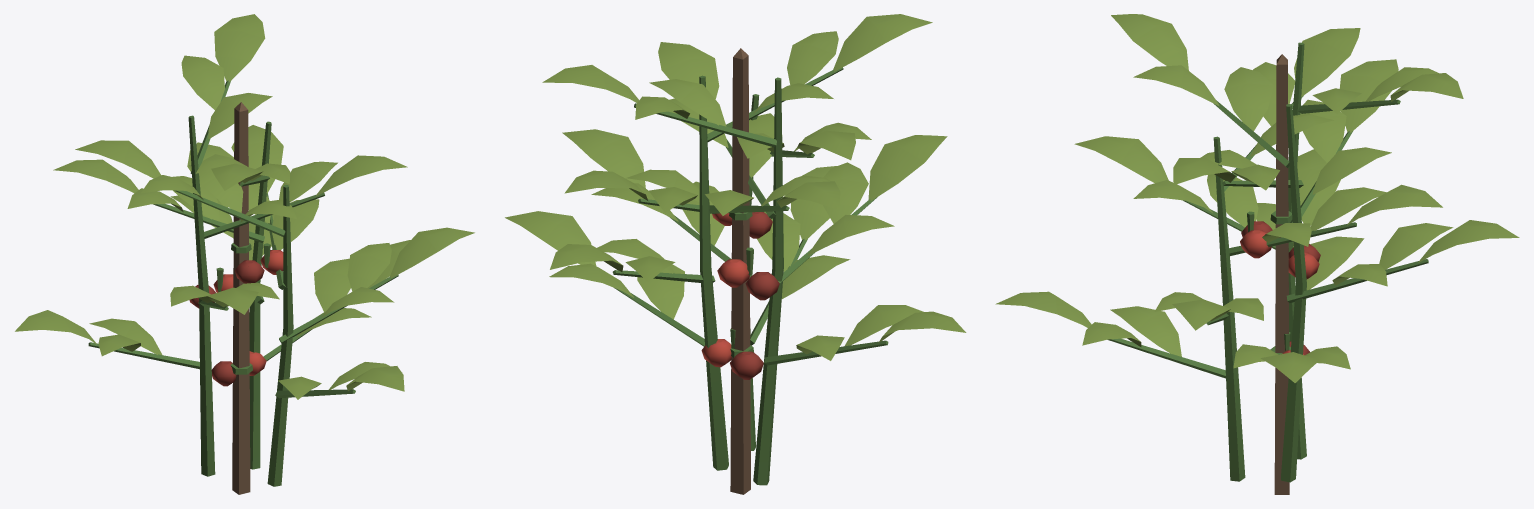
File: crop_tomato_mature.glb
3 renders of one model, left to right at view 1: azimuth 30°, elevation 25°; view 2: azimuth 150°, elevation 25°; view 3: azimuth 270°, elevation 25°, orthographic. The views are drawn at different scales.
Parts seen in each view (by area): view 1: tomato_leaf_00_00_leaflet_00, tomato_cluster_00_fruit_00_calyx_0, tomato_stake, tomato_cluster_00_fruit_01_body, tomato_cluster_00_fruit_00_body; view 2: tomato_leaf_00_00_leaflet_00, tomato_cluster_00_fruit_00_calyx_0, tomato_stake, tomato_cluster_00_fruit_01_body, tomato_cluster_00_fruit_00_body; view 3: tomato_leaf_00_00_leaflet_00, tomato_cluster_00_fruit_00_calyx_0, tomato_stake, tomato_cluster_00_fruit_00_body.
Boxes of the visible parts, box(x1,y1,x2,y2) form: tomato_leaf_00_00_leaflet_00: box(15, 14, 474, 399); tomato_cluster_00_fruit_00_calyx_0: box(88, 80, 398, 486); tomato_stake: box(232, 102, 250, 494); tomato_cluster_00_fruit_01_body: box(189, 260, 264, 386); tomato_cluster_00_fruit_00_body: box(213, 250, 283, 375); tomato_leaf_00_00_leaflet_00: box(505, 14, 966, 360); tomato_cluster_00_fruit_00_calyx_0: box(612, 67, 888, 485); tomato_stake: box(730, 48, 750, 494); tomato_cluster_00_fruit_01_body: box(730, 212, 779, 379); tomato_cluster_00_fruit_00_body: box(701, 213, 749, 367); tomato_leaf_00_00_leaflet_00: box(995, 14, 1519, 382); tomato_cluster_00_fruit_00_calyx_0: box(1107, 42, 1428, 482); tomato_stake: box(1274, 54, 1289, 494); tomato_cluster_00_fruit_00_body: box(1240, 230, 1319, 371).
Bounding box in the file's own units: 1.29 × 1.2 × 1.26.
